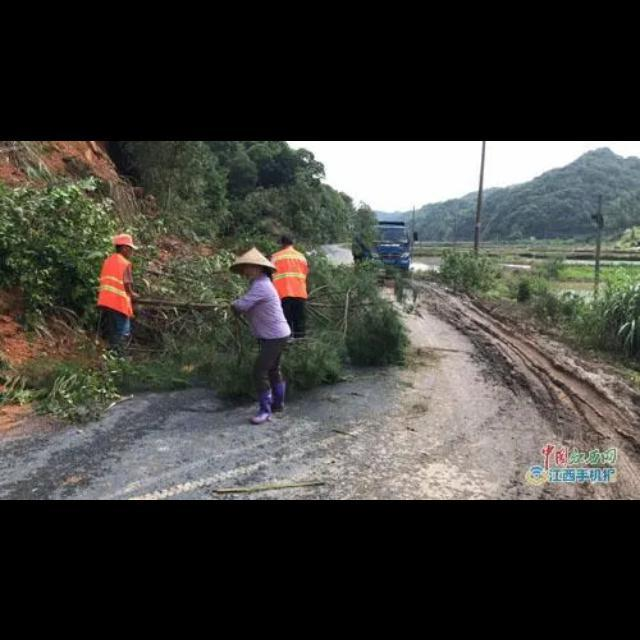fallen_tree: (112, 250, 404, 402)
